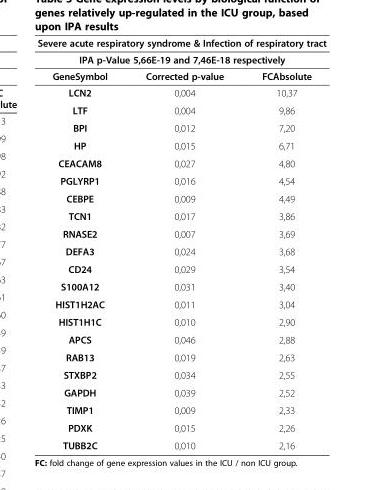table: (36, 36, 325, 450)
table column: (125, 36, 242, 450), (36, 36, 125, 450), (242, 36, 325, 450)
table column header: (36, 36, 325, 84)
table row: (36, 118, 325, 136), (36, 136, 325, 154), (36, 171, 325, 189), (36, 189, 325, 207), (36, 224, 325, 242), (36, 259, 325, 277), (36, 277, 325, 295), (36, 312, 325, 330), (36, 330, 325, 348), (36, 365, 325, 383), (36, 383, 325, 401), (36, 418, 325, 436), (36, 50, 325, 67), (36, 67, 325, 84), (36, 84, 325, 101), (36, 101, 325, 118), (36, 154, 325, 171), (36, 207, 325, 224), (36, 242, 325, 259), (36, 295, 325, 312), (36, 348, 325, 365), (36, 401, 325, 418), (36, 36, 325, 50), (36, 436, 325, 450)
table spanning cell: (36, 36, 325, 67)
